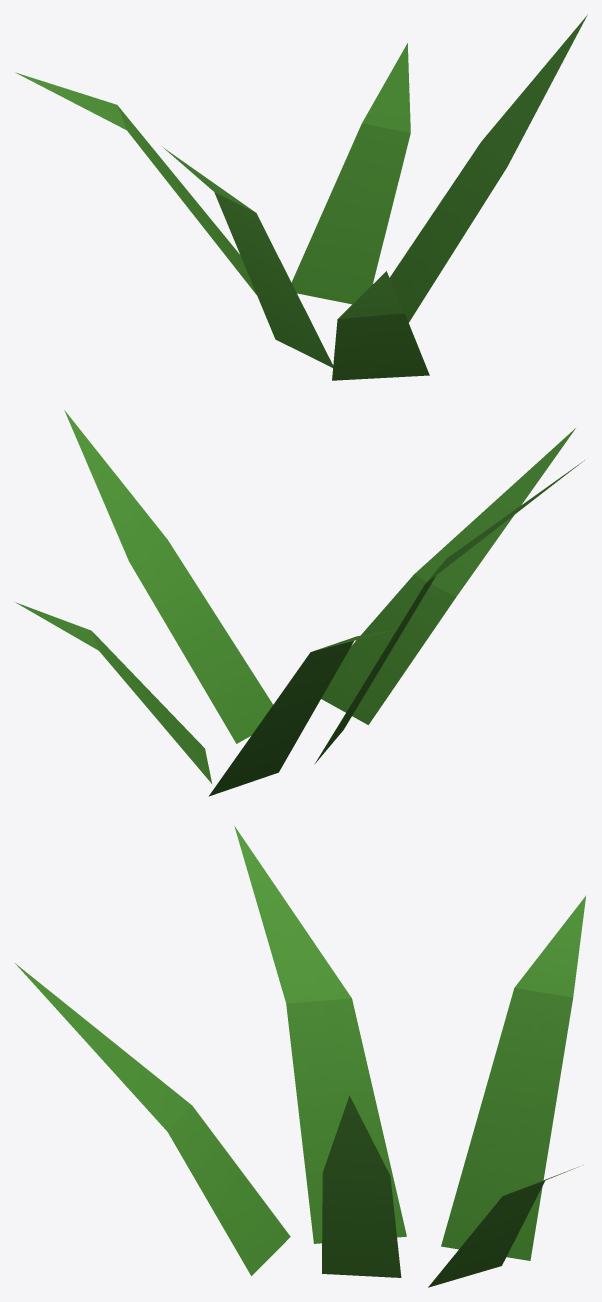
File: Grass_Patch_02_Singlesided.fbx
3 views of the same model, one above another, from view 1: azimuth 30°, elevation 25°; view 2: azimuth 150°, elevation 25°; view 3: azimuth 270°, elevation 25° (orthographic). The views are drawn at different scales.
Visible parts, largest first — view 1: Grass_Patch_02_Singlesided; view 2: Grass_Patch_02_Singlesided; view 3: Grass_Patch_02_Singlesided.
Boxes of the visible parts, x1=… form: Grass_Patch_02_Singlesided: x1=15, y1=14, x2=587, y2=380; Grass_Patch_02_Singlesided: x1=15, y1=410, x2=584, y2=796; Grass_Patch_02_Singlesided: x1=15, y1=826, x2=585, y2=1287.
Size of the model in its own units: 1 by 0.6 by 1.
